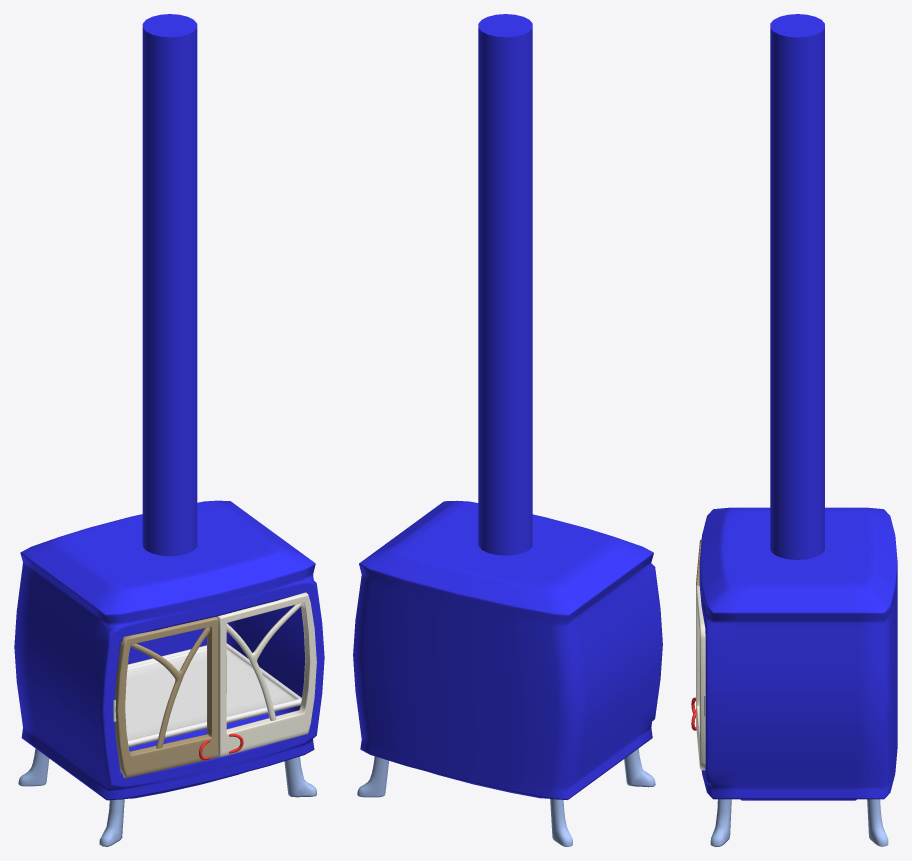
The model's file is Furnace.fbx.
3 views of the same model, side by side, from view 1: azimuth 30°, elevation 25°; view 2: azimuth 150°, elevation 25°; view 3: azimuth 270°, elevation 25° (orthographic).
Parts seen in each view (by area): view 1: MainBody, Chimney, Tray, DoorLeft, DoorRight, Feet01; view 2: MainBody, Chimney, Feet01; view 3: MainBody, Chimney, DoorRight, Feet01.
Part boxes in pixels (x1,y1,x2,y2): MainBody: [14, 500, 324, 800]; Chimney: [142, 14, 197, 556]; Tray: [125, 643, 301, 747]; DoorLeft: [114, 617, 218, 778]; DoorRight: [216, 592, 316, 756]; Feet01: [18, 748, 316, 846]; MainBody: [353, 500, 662, 799]; Chimney: [478, 14, 532, 555]; Feet01: [357, 748, 655, 846]; MainBody: [699, 507, 897, 800]; Chimney: [770, 14, 824, 559]; DoorRight: [696, 585, 705, 770]; Feet01: [710, 799, 888, 846].
Size of the model in its own units: 86.8 by 285 by 69.23.
